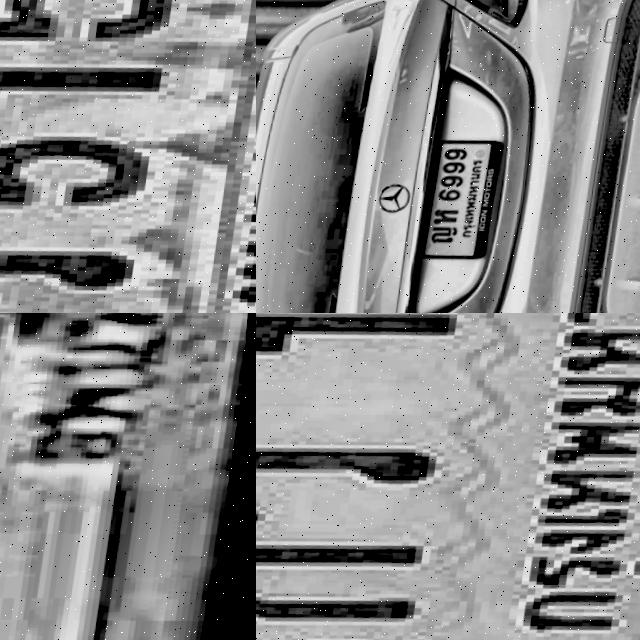license-plate: (256, 313, 640, 640), (0, 313, 256, 640), (0, 0, 256, 313), (419, 139, 505, 271)
